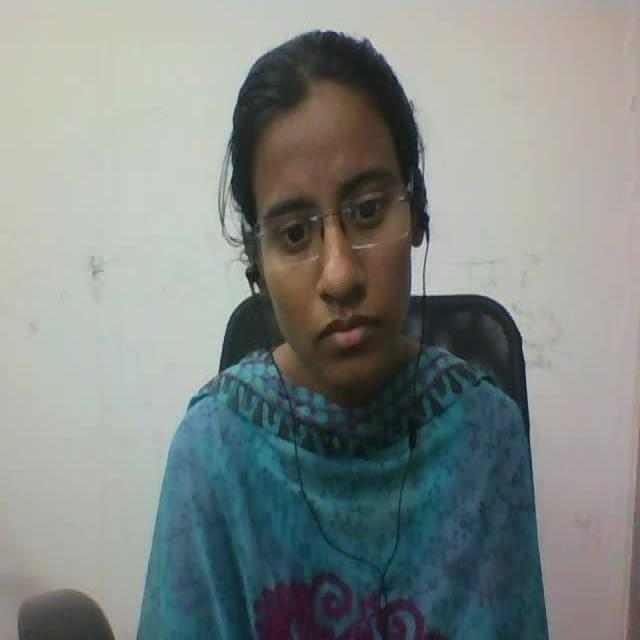Engaged: (207, 24, 483, 418)
